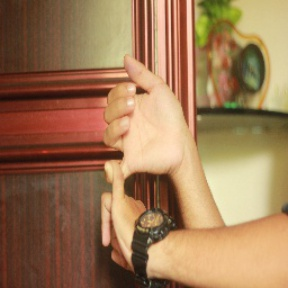S: (90, 49, 187, 278)
